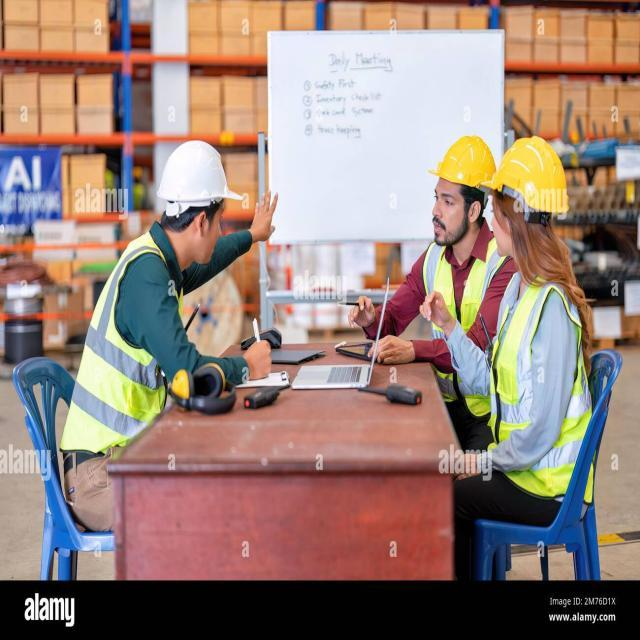bare_hand: (366, 333, 416, 375), (238, 330, 274, 386), (249, 185, 283, 244), (417, 287, 455, 330), (343, 292, 382, 332)
